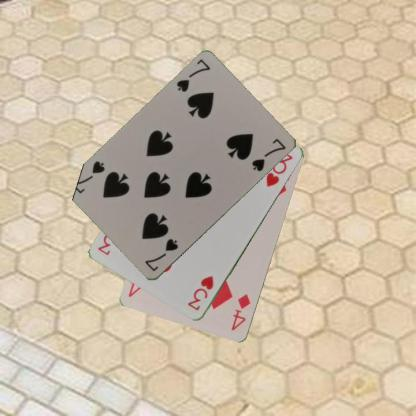3h: (185, 273, 215, 313)
4d: (229, 292, 252, 332)
7s: (142, 236, 180, 273), (174, 57, 211, 94)
